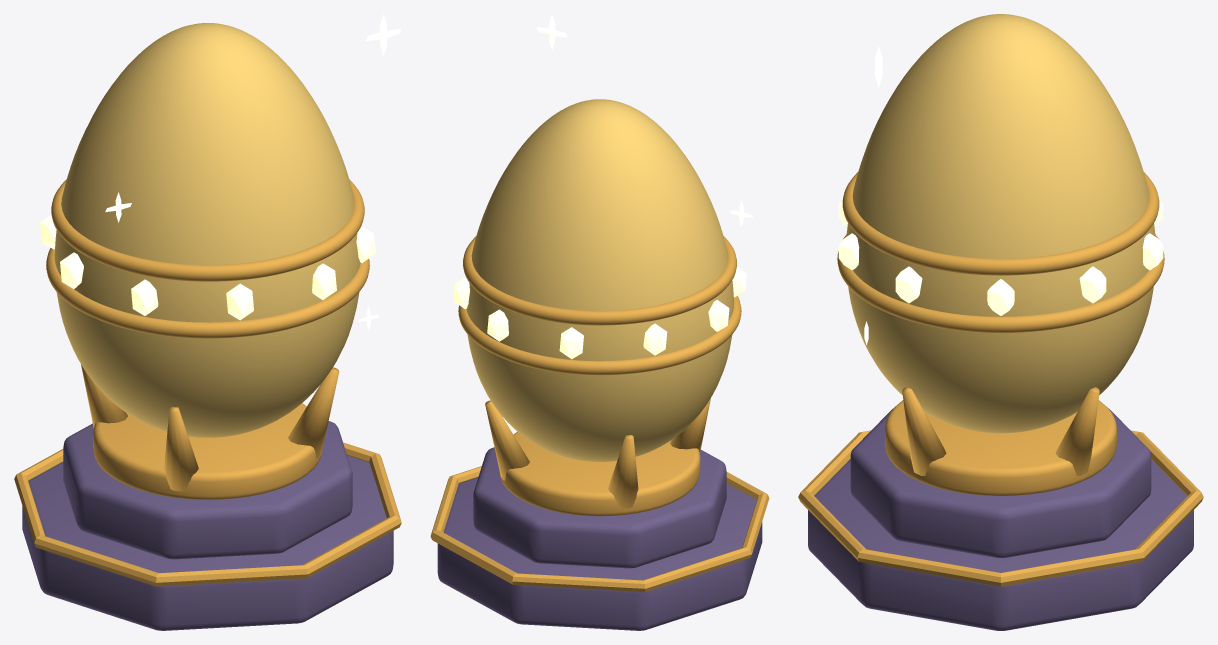
The model's file is dm_goldenegg.glb.
3 views of the same model, side by side, from view 1: azimuth 30°, elevation 25°; view 2: azimuth 150°, elevation 25°; view 3: azimuth 270°, elevation 25° (orthographic). The views are drawn at different scales.
Visible parts, largest first — view 1: GoldenEgg_Gold_7, GoldenEgg_Stand_4, GoldenEgg_Stand_5, GoldenEgg_GoldDeep_6, GoldenEgg_GoldDeep_26, GoldenEgg_GoldDeep_25, GoldenEgg_GoldDeep_24, GoldenEgg_GoldDeep_3, GoldenEgg_GoldDeep_2, GoldenEgg_GoldDeep_1, GoldenEgg_Gem_15, GoldenEgg_Gem_14 (+3 smaller); view 2: GoldenEgg_Gold_7, GoldenEgg_Stand_4, GoldenEgg_Stand_5, GoldenEgg_GoldDeep_6, GoldenEgg_GoldDeep_26, GoldenEgg_GoldDeep_25, GoldenEgg_GoldDeep_24, GoldenEgg_GoldDeep_0, GoldenEgg_GoldDeep_1, GoldenEgg_GoldDeep_2, GoldenEgg_Gem_11, GoldenEgg_Gem_12 (+2 smaller); view 3: GoldenEgg_Gold_7, GoldenEgg_Stand_4, GoldenEgg_Stand_5, GoldenEgg_GoldDeep_6, GoldenEgg_GoldDeep_26, GoldenEgg_GoldDeep_25, GoldenEgg_GoldDeep_24, GoldenEgg_GoldDeep_0, GoldenEgg_GoldDeep_3, GoldenEgg_Gem_8, GoldenEgg_Gem_9, GoldenEgg_Gem_17 (+2 smaller).
Part boxes in pixels (box(x1,y1,x2,y2)): GoldenEgg_Gold_7: box(54, 23, 360, 437); GoldenEgg_Stand_4: box(22, 455, 393, 630); GoldenEgg_Stand_5: box(63, 421, 352, 559); GoldenEgg_GoldDeep_6: box(93, 403, 322, 499); GoldenEgg_GoldDeep_26: box(14, 442, 401, 586); GoldenEgg_GoldDeep_25: box(51, 179, 364, 281); GoldenEgg_GoldDeep_24: box(46, 248, 369, 338); GoldenEgg_GoldDeep_3: box(288, 367, 339, 458); GoldenEgg_GoldDeep_2: box(164, 406, 198, 491); GoldenEgg_GoldDeep_1: box(81, 364, 127, 428); GoldenEgg_Gem_15: box(226, 283, 253, 320); GoldenEgg_Gem_14: box(131, 279, 158, 315); GoldenEgg_Gold_7: box(466, 99, 733, 461); GoldenEgg_Stand_4: box(437, 477, 762, 630); GoldenEgg_Stand_5: box(473, 447, 726, 568); GoldenEgg_GoldDeep_6: box(499, 432, 700, 516); GoldenEgg_GoldDeep_26: box(430, 466, 769, 592); GoldenEgg_GoldDeep_25: box(463, 236, 736, 325); GoldenEgg_GoldDeep_24: box(458, 296, 741, 375); GoldenEgg_GoldDeep_0: box(485, 400, 529, 480); GoldenEgg_GoldDeep_1: box(608, 435, 638, 508); GoldenEgg_GoldDeep_2: box(670, 398, 710, 453); GoldenEgg_Gem_11: box(559, 327, 583, 359); GoldenEgg_Gem_12: box(643, 323, 667, 355); GoldenEgg_Gold_7: box(846, 14, 1155, 433); GoldenEgg_Stand_4: box(808, 459, 1193, 630); GoldenEgg_Stand_5: box(850, 408, 1151, 557); GoldenEgg_GoldDeep_6: box(885, 400, 1116, 495); GoldenEgg_GoldDeep_26: box(798, 430, 1203, 586); GoldenEgg_GoldDeep_25: box(842, 172, 1159, 275); GoldenEgg_GoldDeep_24: box(837, 234, 1164, 333); GoldenEgg_GoldDeep_0: box(1055, 387, 1099, 475); GoldenEgg_GoldDeep_3: box(902, 387, 946, 475); GoldenEgg_Gem_8: box(987, 279, 1014, 315); GoldenEgg_Gem_9: box(1079, 266, 1106, 303); GoldenEgg_Gem_17: box(895, 266, 922, 303).
Size of the model in its own units: 3.32 by 5.09 by 3.32.
